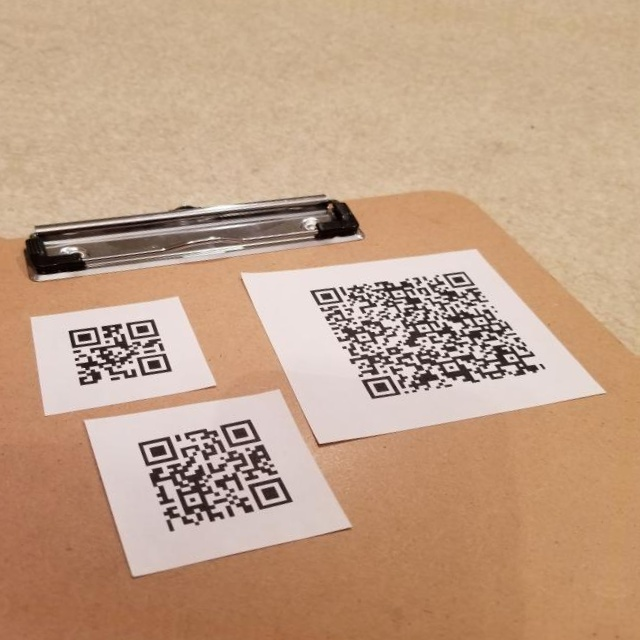qr-code: (288, 244, 570, 426), (118, 400, 311, 552), (50, 298, 192, 403)
